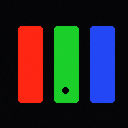0 point: (62, 87, 68, 93)
